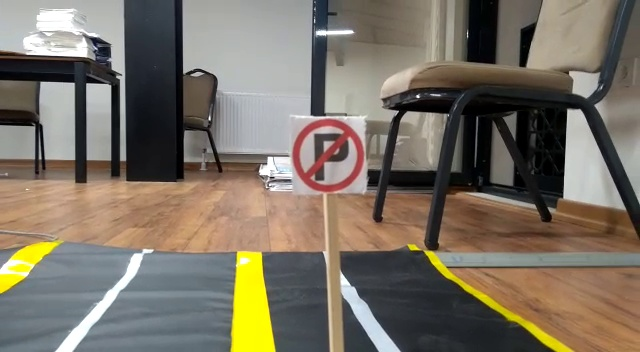park_yapilmaz: (287, 115, 366, 192)
